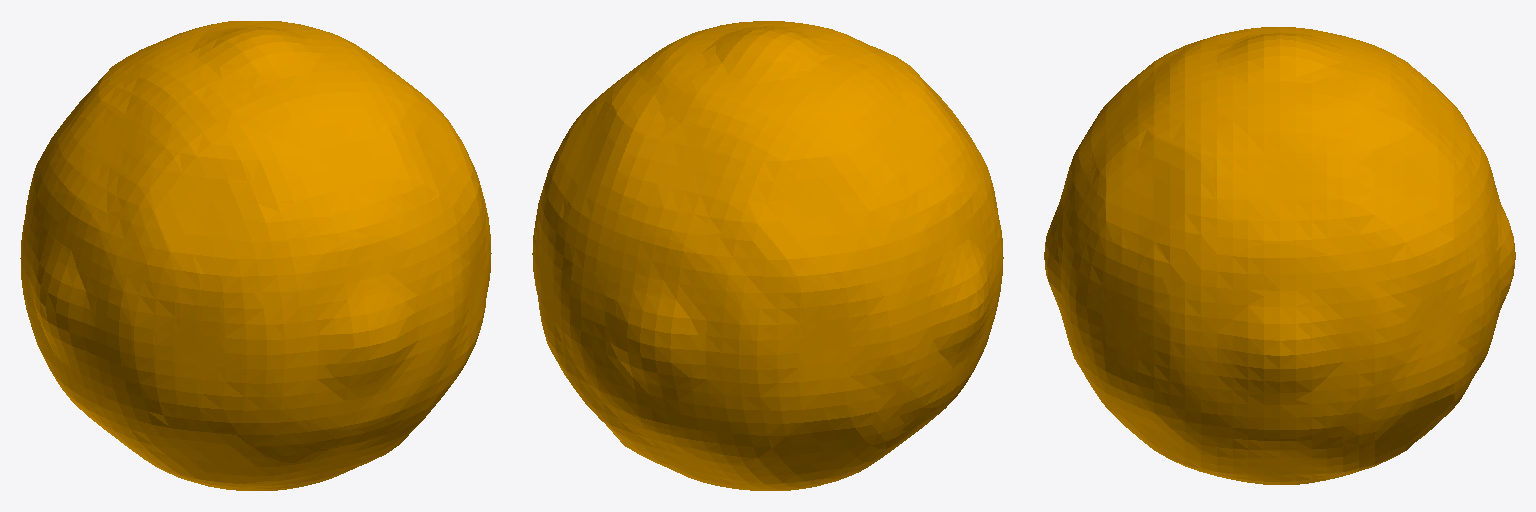
robot.urdf — A03_1:
<?xml version="1.0"?>
<robot name="A03_1">
  <link name="base_link">
    <inertial>
      <mass value="0.09594" />
      <origin xyz="0 0 0" />
      <inertia  ixx="0.0002" ixy="0.0"  ixz="0.0"  iyy="0.0002"  iyz="0.0" izz="0.0002" />
    </inertial>
    <visual>
      <geometry>
        <mesh filename="../../../meshes/egad/train/A03_1.obj" />
      </geometry>
    </visual>
    <collision>
      <geometry>
        <mesh filename="../../../meshes/egad/train/A03_1.obj" />
      </geometry>
    </collision>
  </link>
</robot>

--- Facts derived from the render (not from the file) ---
Views: 3 orthographic renders of the robot side by side, from view 1: azimuth 30°, elevation 25°; view 2: azimuth 150°, elevation 25°; view 3: azimuth 270°, elevation 25°.
Model A03_1 with 1 links and 0 joints (none), rooted at base_link, posed all joints at 0.
Visible links, largest first — view 1: base_link; view 2: base_link; view 3: base_link.
Link boxes in pixels (box(x1,y1,x2,y2)): base_link: box(20, 21, 491, 490); base_link: box(532, 21, 1003, 490); base_link: box(1044, 27, 1515, 484).
Bounding box of the posed robot: 0.0635 × 0.0632 × 0.0632 m (x, y, z).
Meshes: 1 distinct files referenced, 1 mesh visuals loaded (1 OBJ).